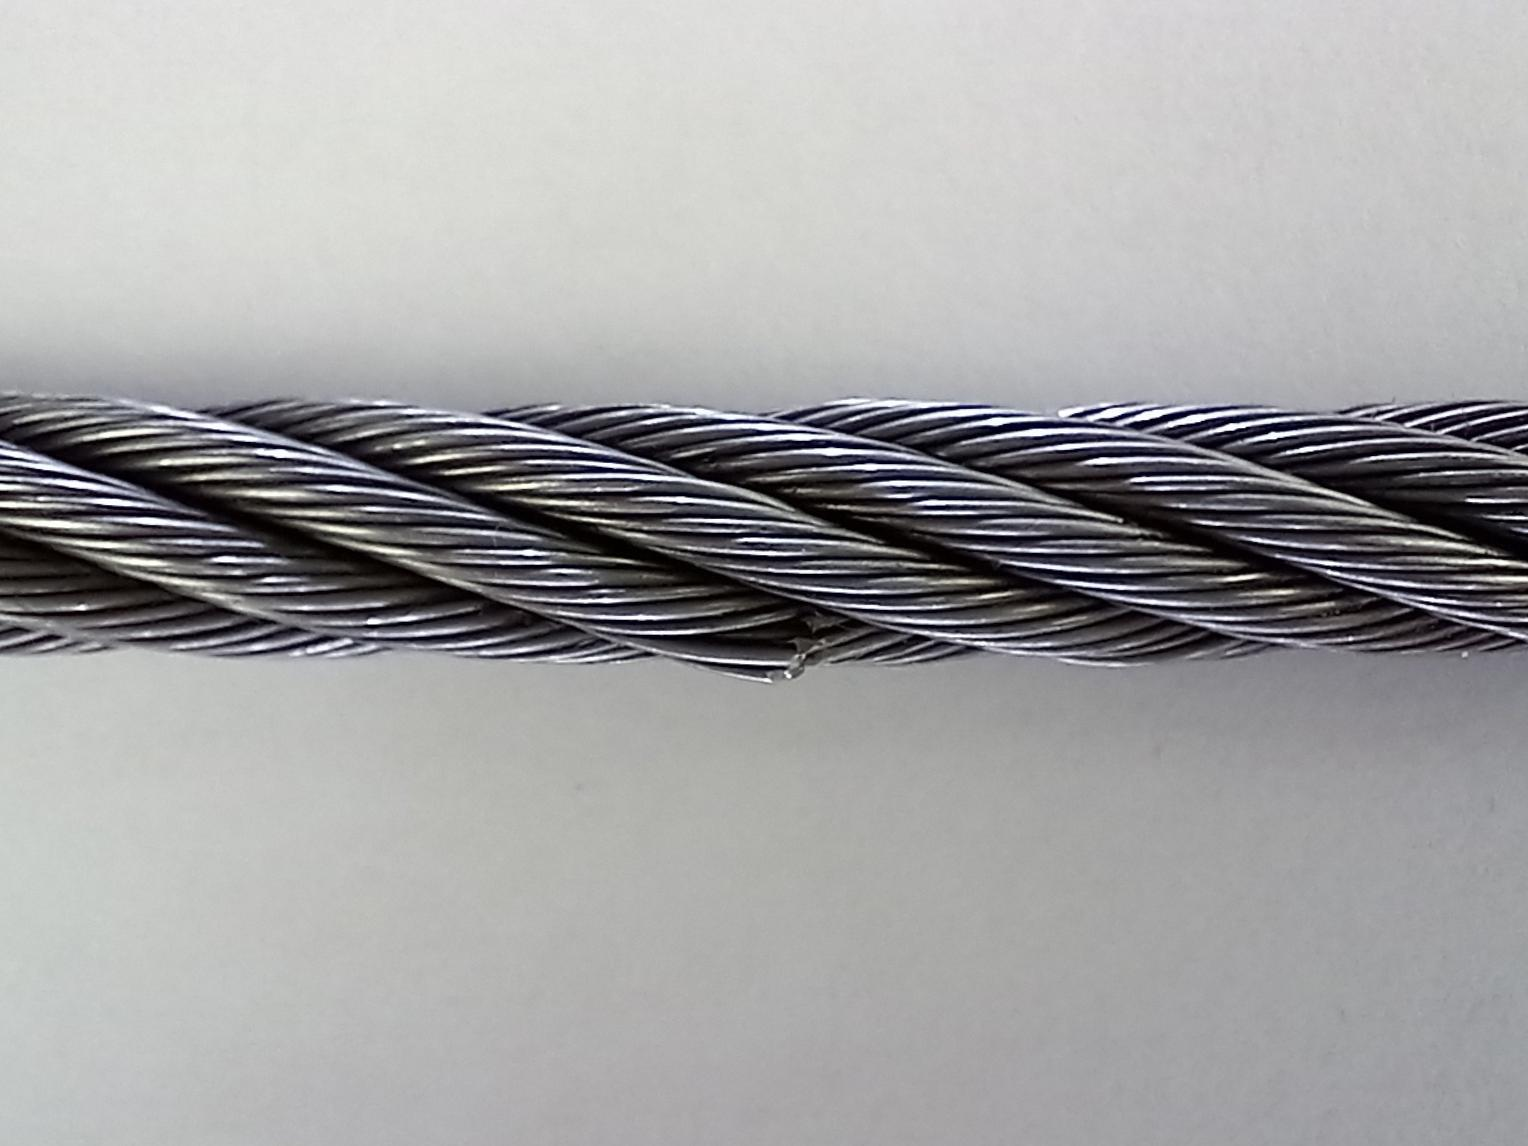break: (724, 615, 863, 696)
